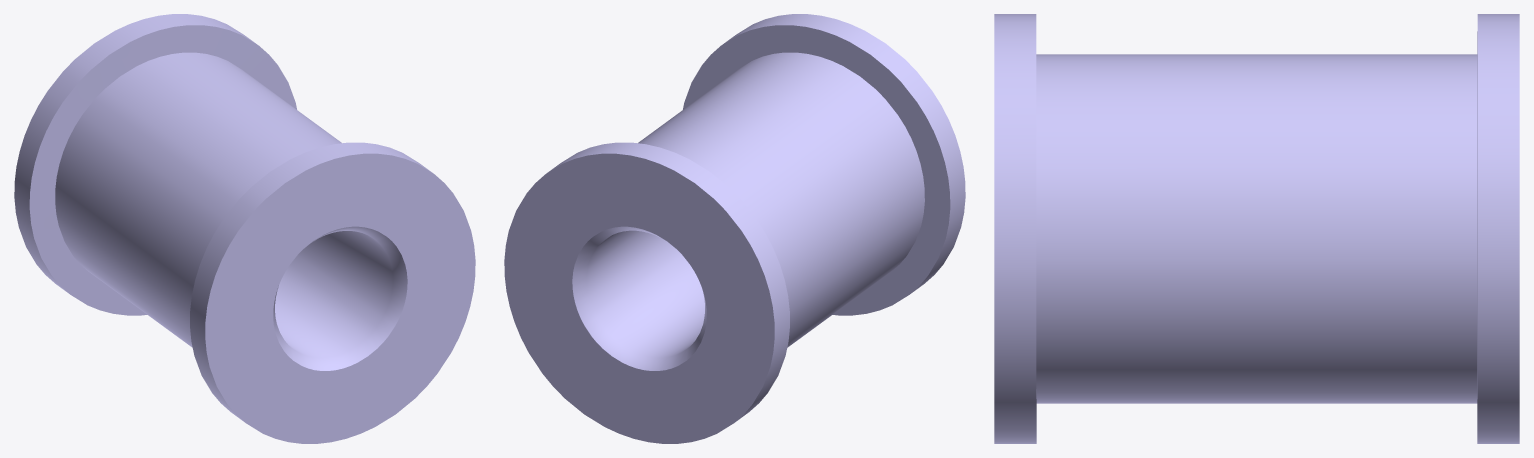
The model's file is calorimeter-lar-barrel.glb.
3 renders of one model, left to right at view 1: azimuth 30°, elevation 25°; view 2: azimuth 150°, elevation 25°; view 3: azimuth 270°, elevation 25°, orthographic. The views are drawn at different scales.
Parts seen in each view (by area): view 1: lar_barrel; view 2: lar_barrel; view 3: lar_barrel.
Boxes of the visible parts, box(x1,y1,x2,y2) form: lar_barrel: box(14, 14, 475, 443); lar_barrel: box(504, 14, 965, 443); lar_barrel: box(994, 14, 1519, 443).
Bounding box in the file's own units: 5.55 × 5.55 × 6.79.
